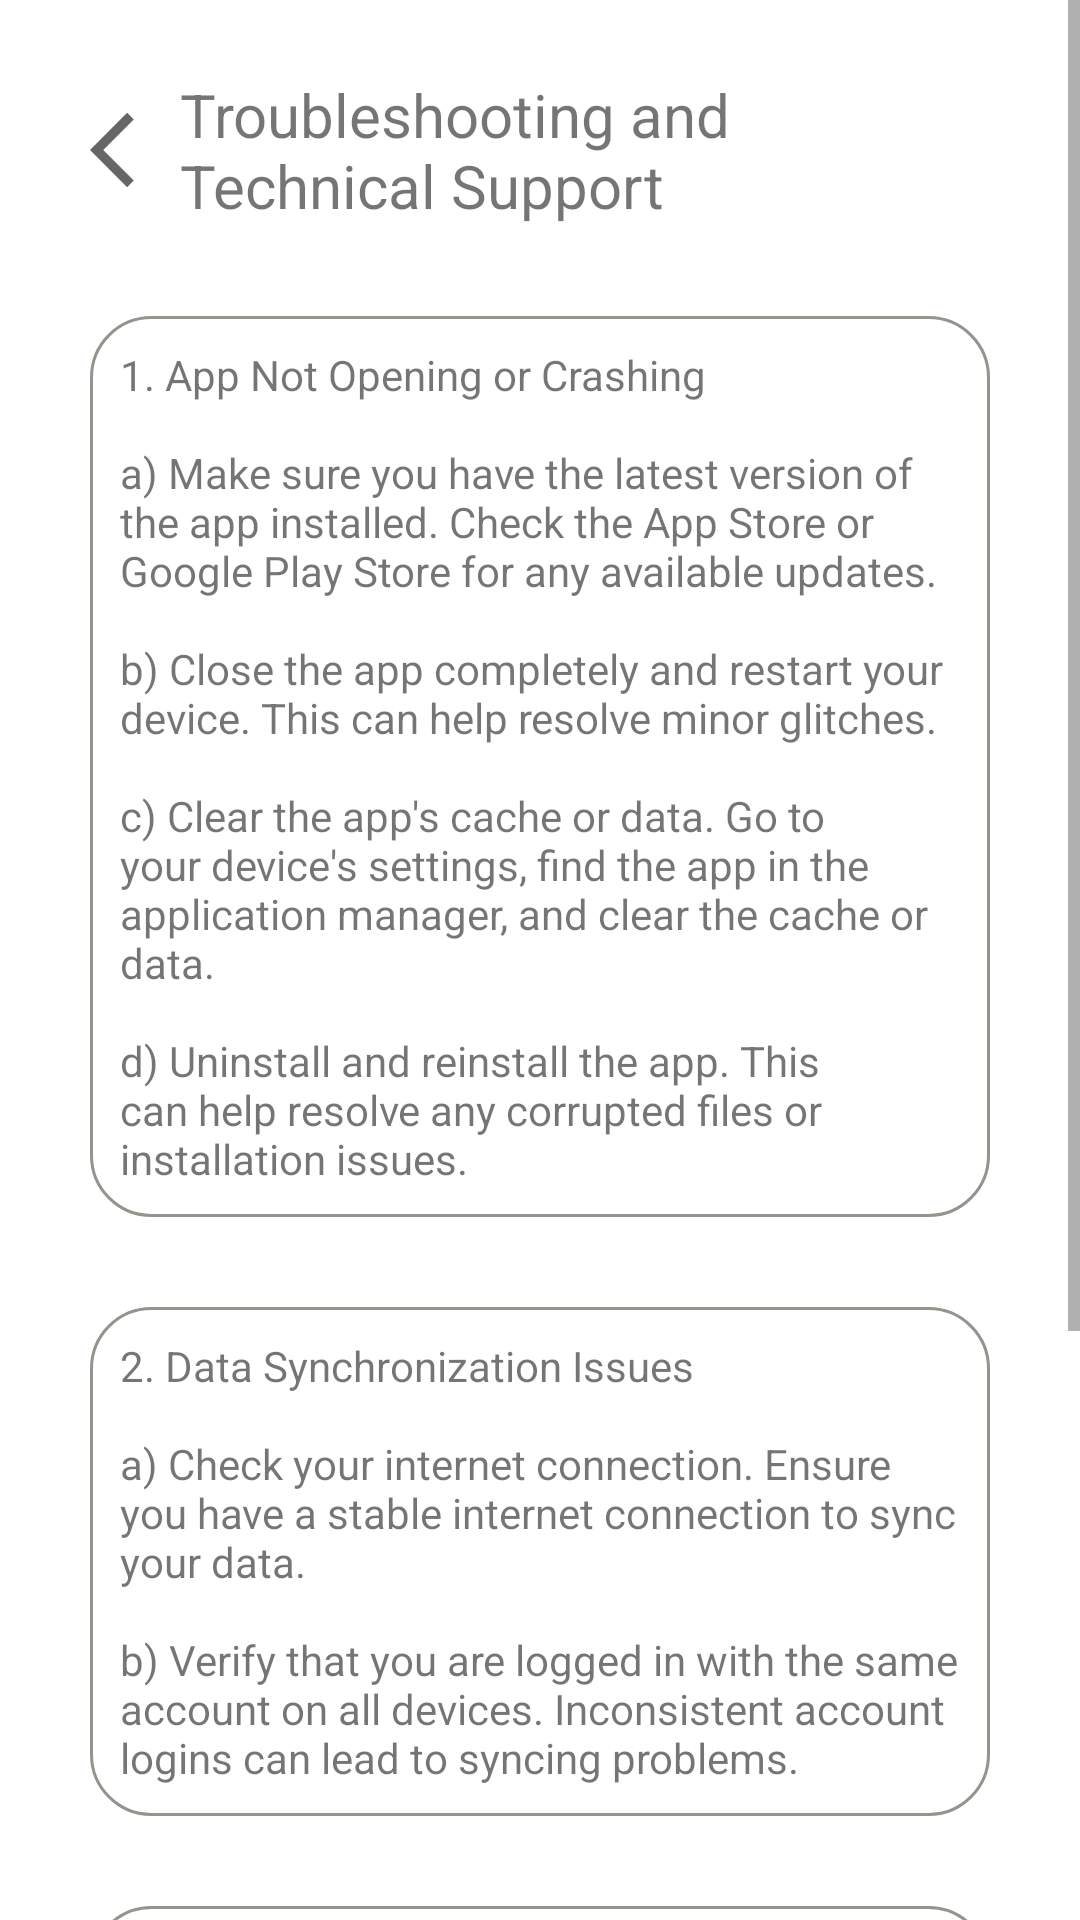

Where icons sit on this 1080×1920 app screen, as detection(x1, y1, x2, y2):
back arrow: detection(90, 113, 134, 187)
